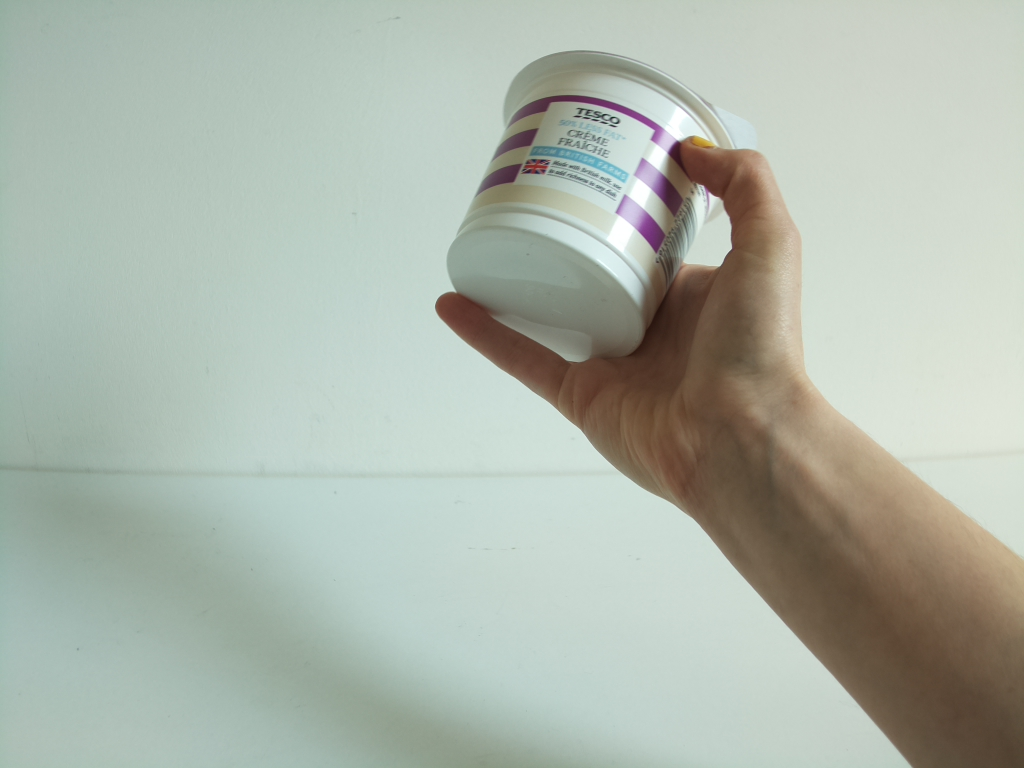cream: (445, 52, 763, 366)
